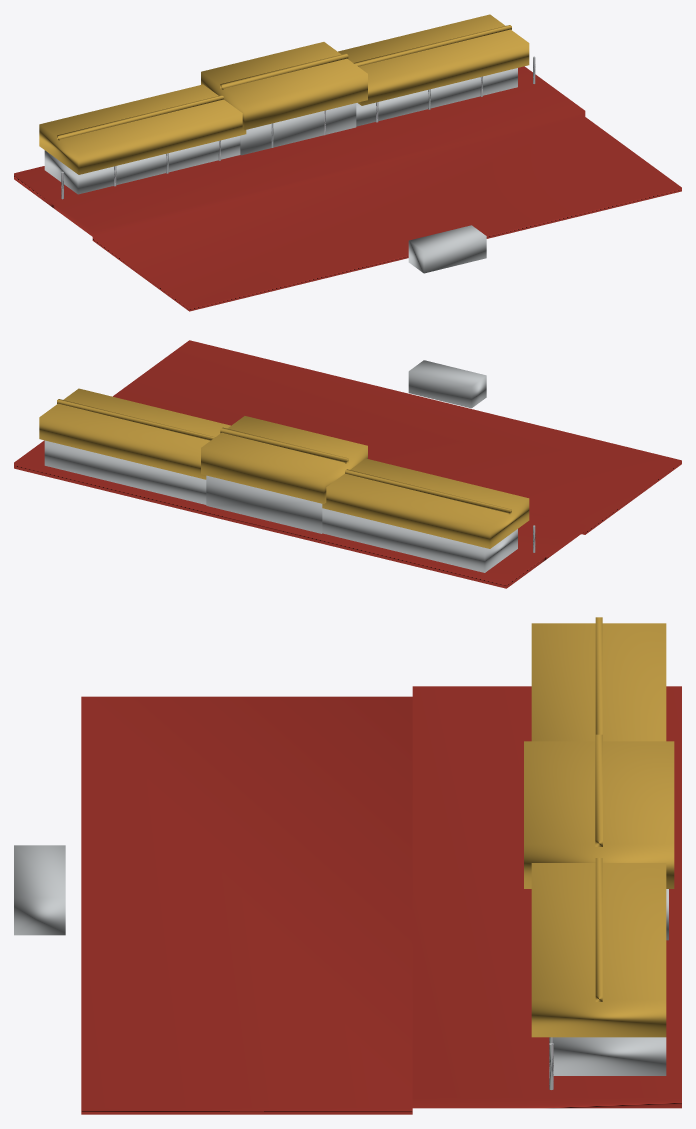
The picture shows the model from 3 angles, top to bottom: view 1: azimuth 30°, elevation 25°; view 2: azimuth 150°, elevation 25°; view 3: azimuth 270°, elevation 25°; orthographic projection. The views are drawn at different scales.
Parts seen in each view (by area): view 1: woldae_simplified, roof_simplified, shrine_simplified, gate_simplified; view 2: woldae_simplified, roof_simplified, shrine_simplified, gate_simplified; view 3: woldae_simplified, roof_simplified, shrine_simplified, gate_simplified.
Part boxes in pixels (left/top/right/bottom): woldae_simplified: left=14, top=66, right=681, bottom=311; roof_simplified: left=39, top=14, right=529, bottom=174; shrine_simplified: left=44, top=56, right=535, bottom=199; gate_simplified: left=408, top=225, right=486, bottom=273; woldae_simplified: left=14, top=340, right=681, bottom=588; roof_simplified: left=39, top=388, right=529, bottom=548; shrine_simplified: left=44, top=440, right=535, bottom=572; gate_simplified: left=408, top=360, right=486, bottom=408; woldae_simplified: left=81, top=686, right=681, bottom=1114; roof_simplified: left=524, top=617, right=674, bottom=1037; shrine_simplified: left=549, top=889, right=668, bottom=1089; gate_simplified: left=14, top=845, right=65, bottom=935.
Bounding box in the file's own units: 94 × 12.98 × 64.5.
3 materials, 3 textured.
